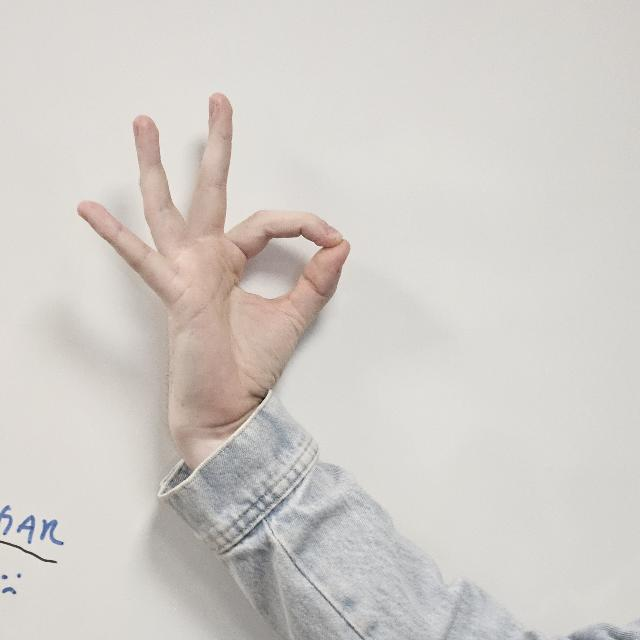Bolinha: (69, 87, 383, 443)
